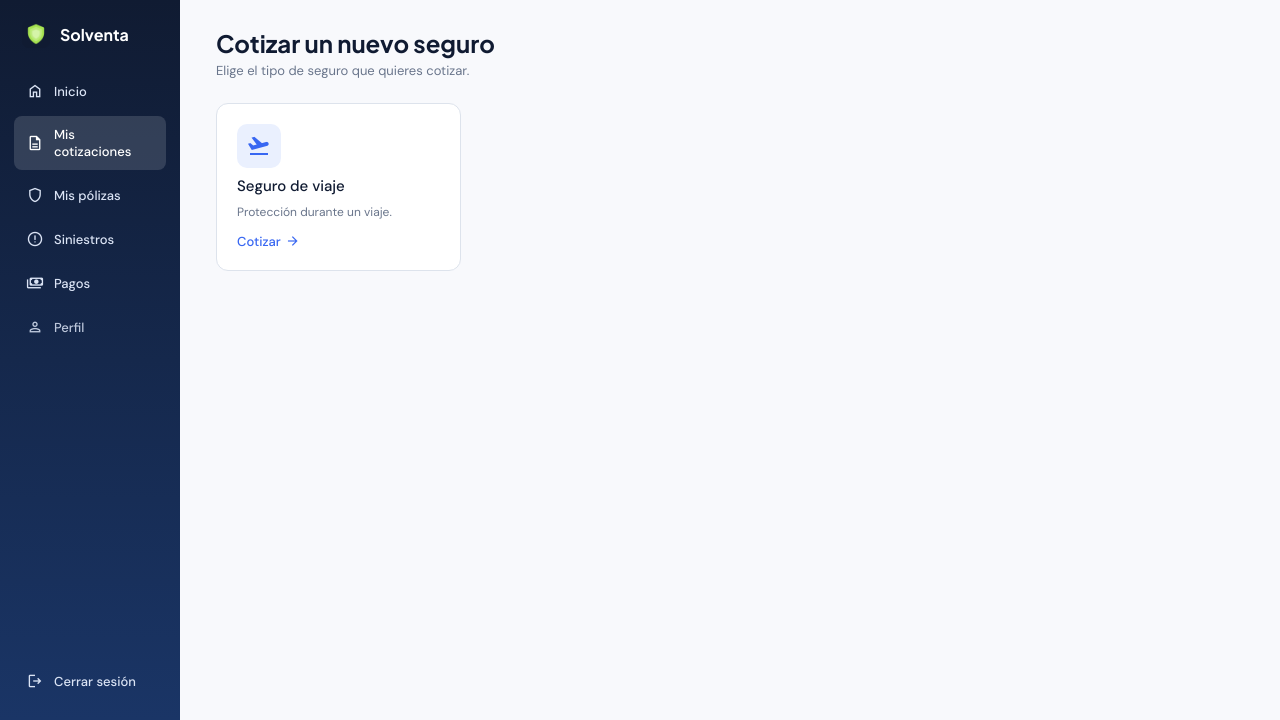
Test: informa el error cuando falla la creación de la cotización
This screenshot has width=1280, height=720.
Click the button "Seguro de viaje Protección durante un viaje. Cotizar" at (338, 187), box [216, 103, 461, 271]
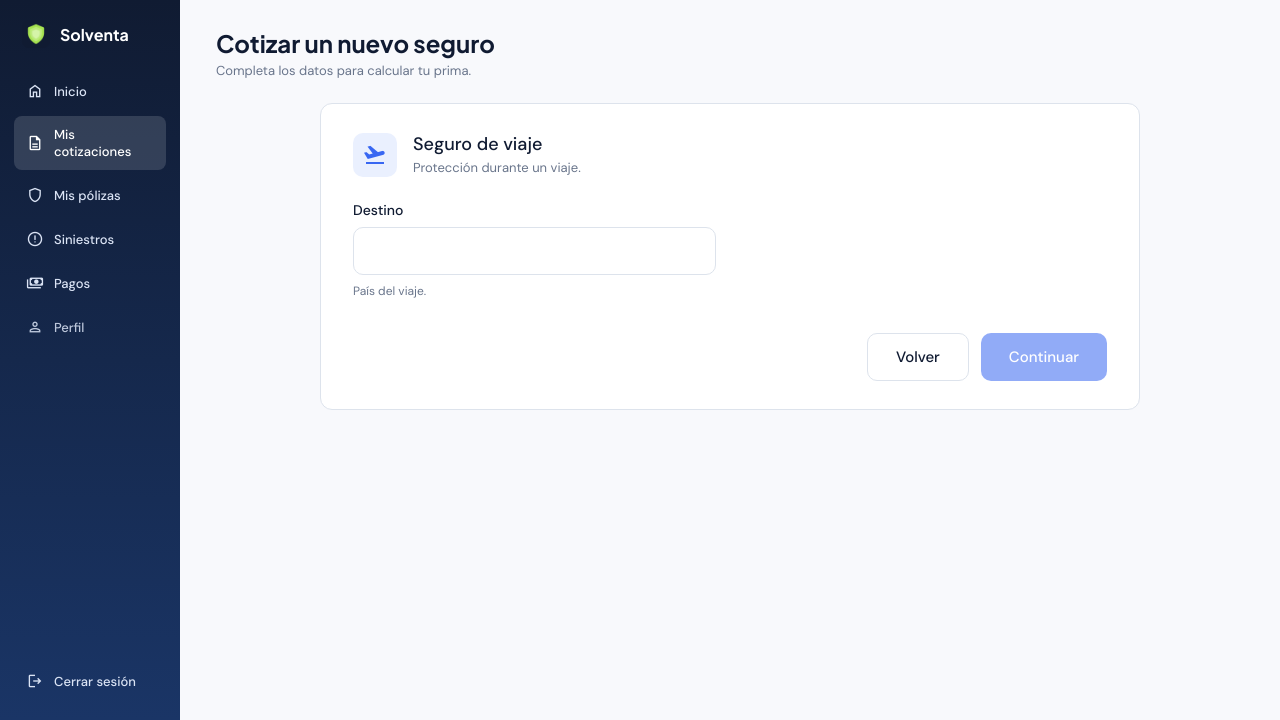
Type "Lima" into the field labelled "Destino" at (534, 251), box [353, 227, 716, 275]
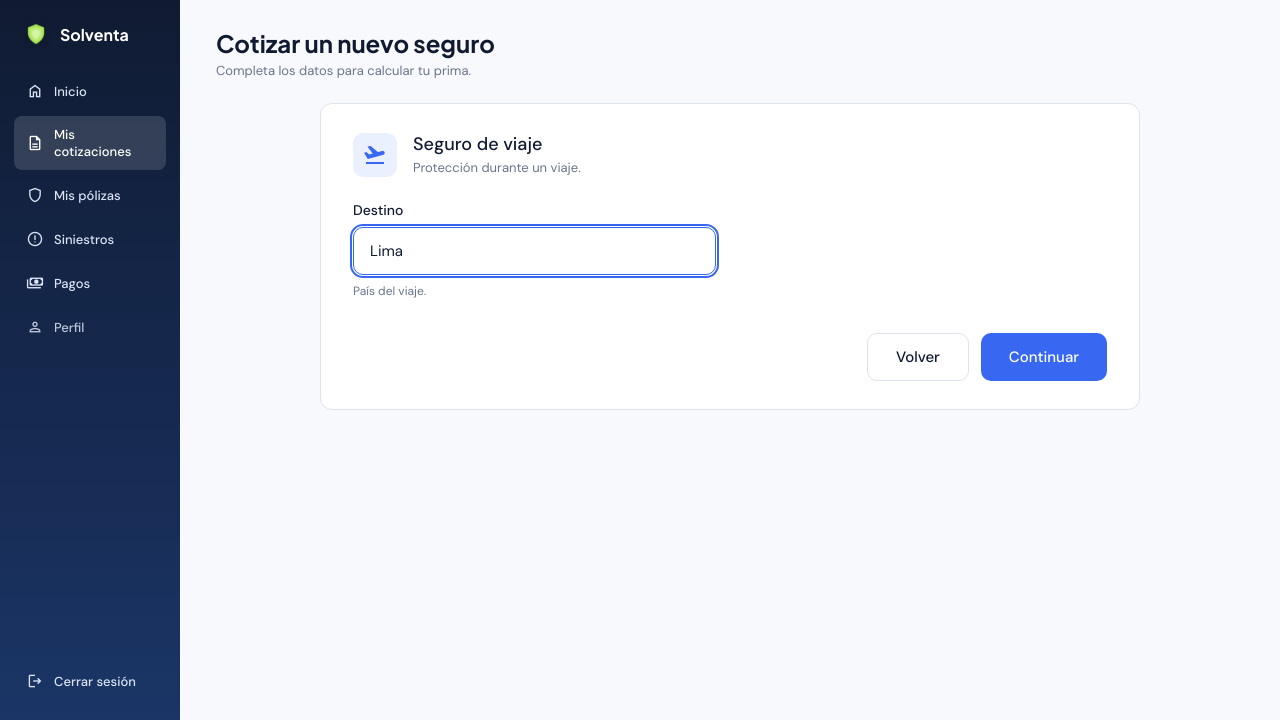
Click the button "Continuar" at (1044, 357), box [981, 333, 1107, 381]
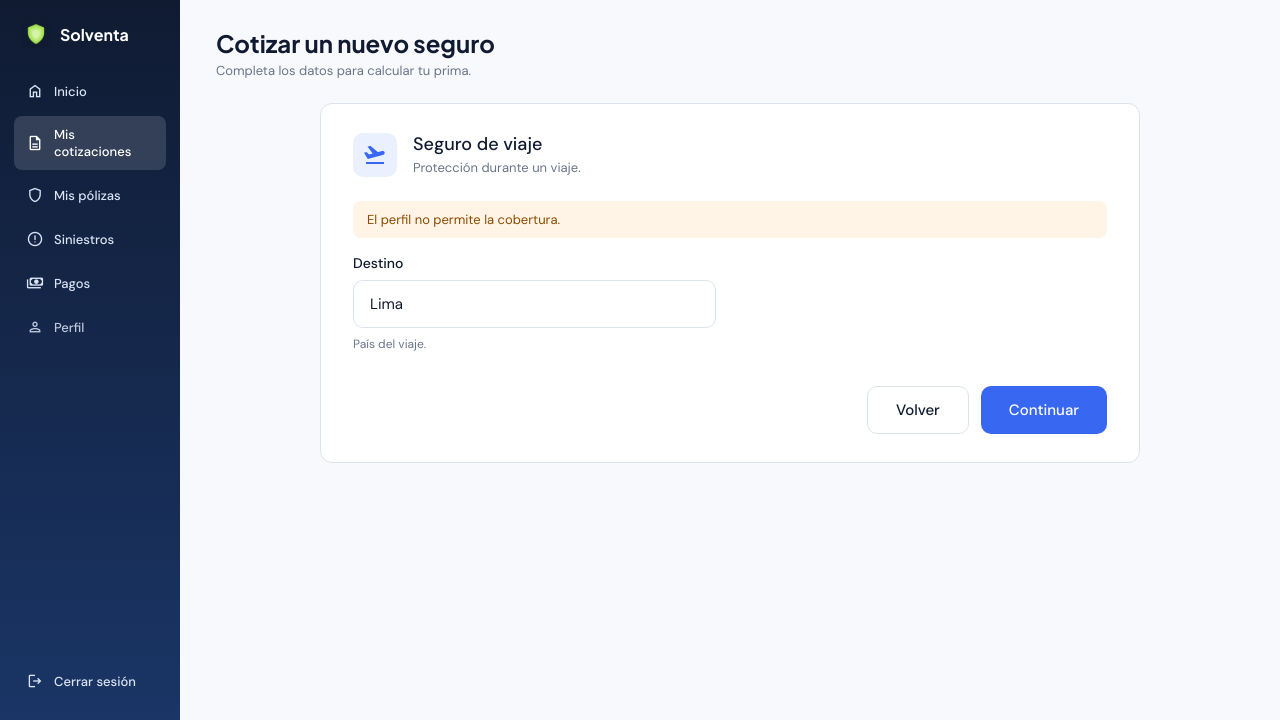
Check: the message reads "El perfil no permite la cobertura.", box [367, 211, 560, 228]
